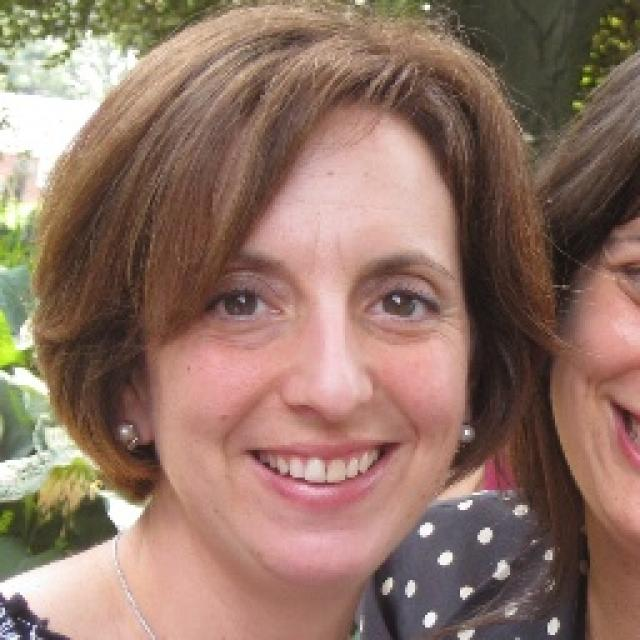earlobe: (80, 300, 151, 448)
